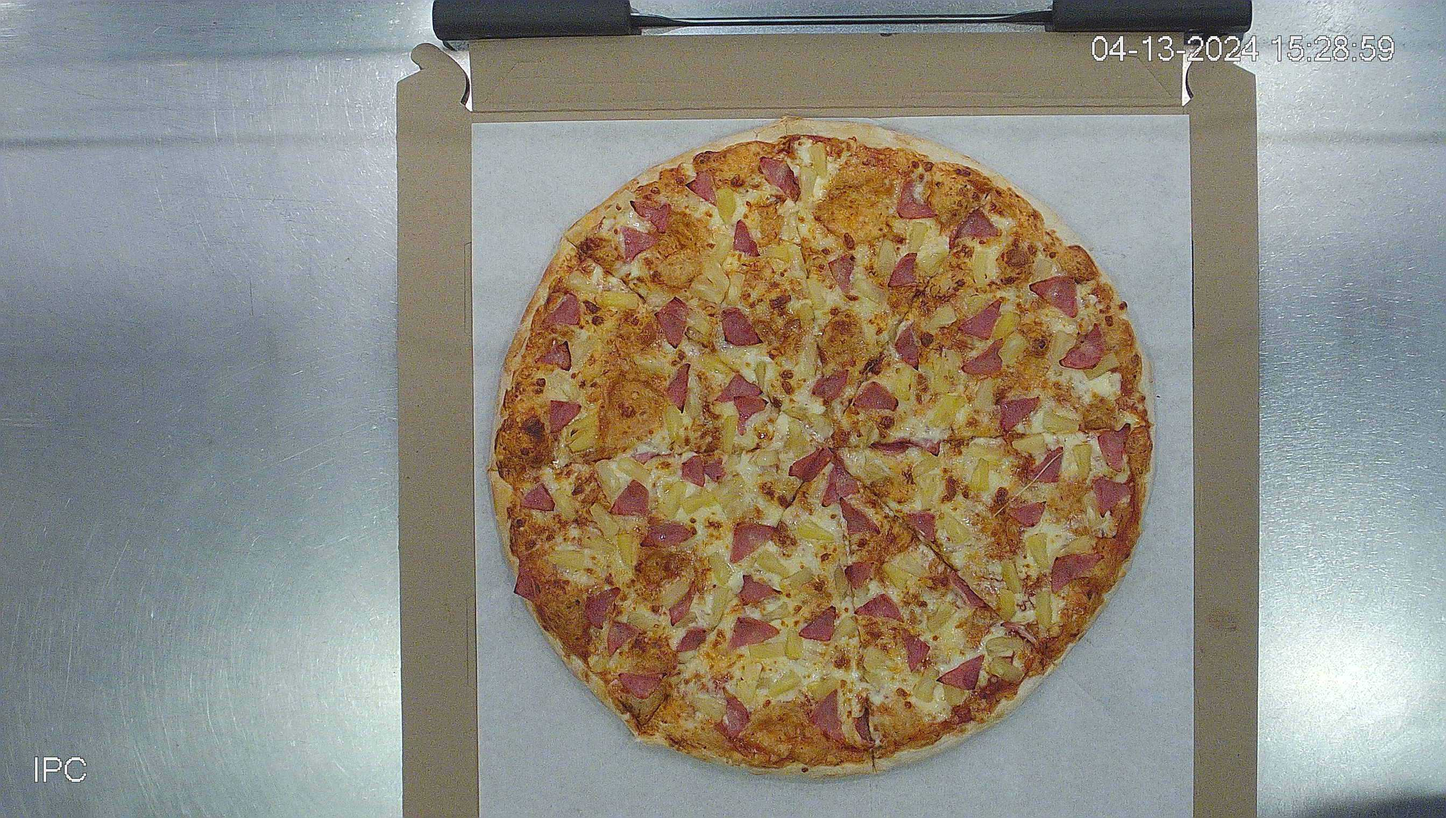manager_choice: (483, 115, 1159, 785)
